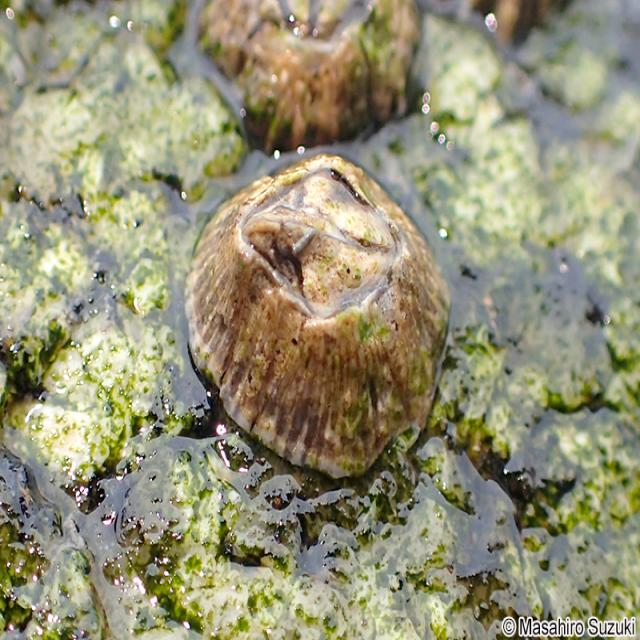barnacles: (176, 147, 453, 476)
